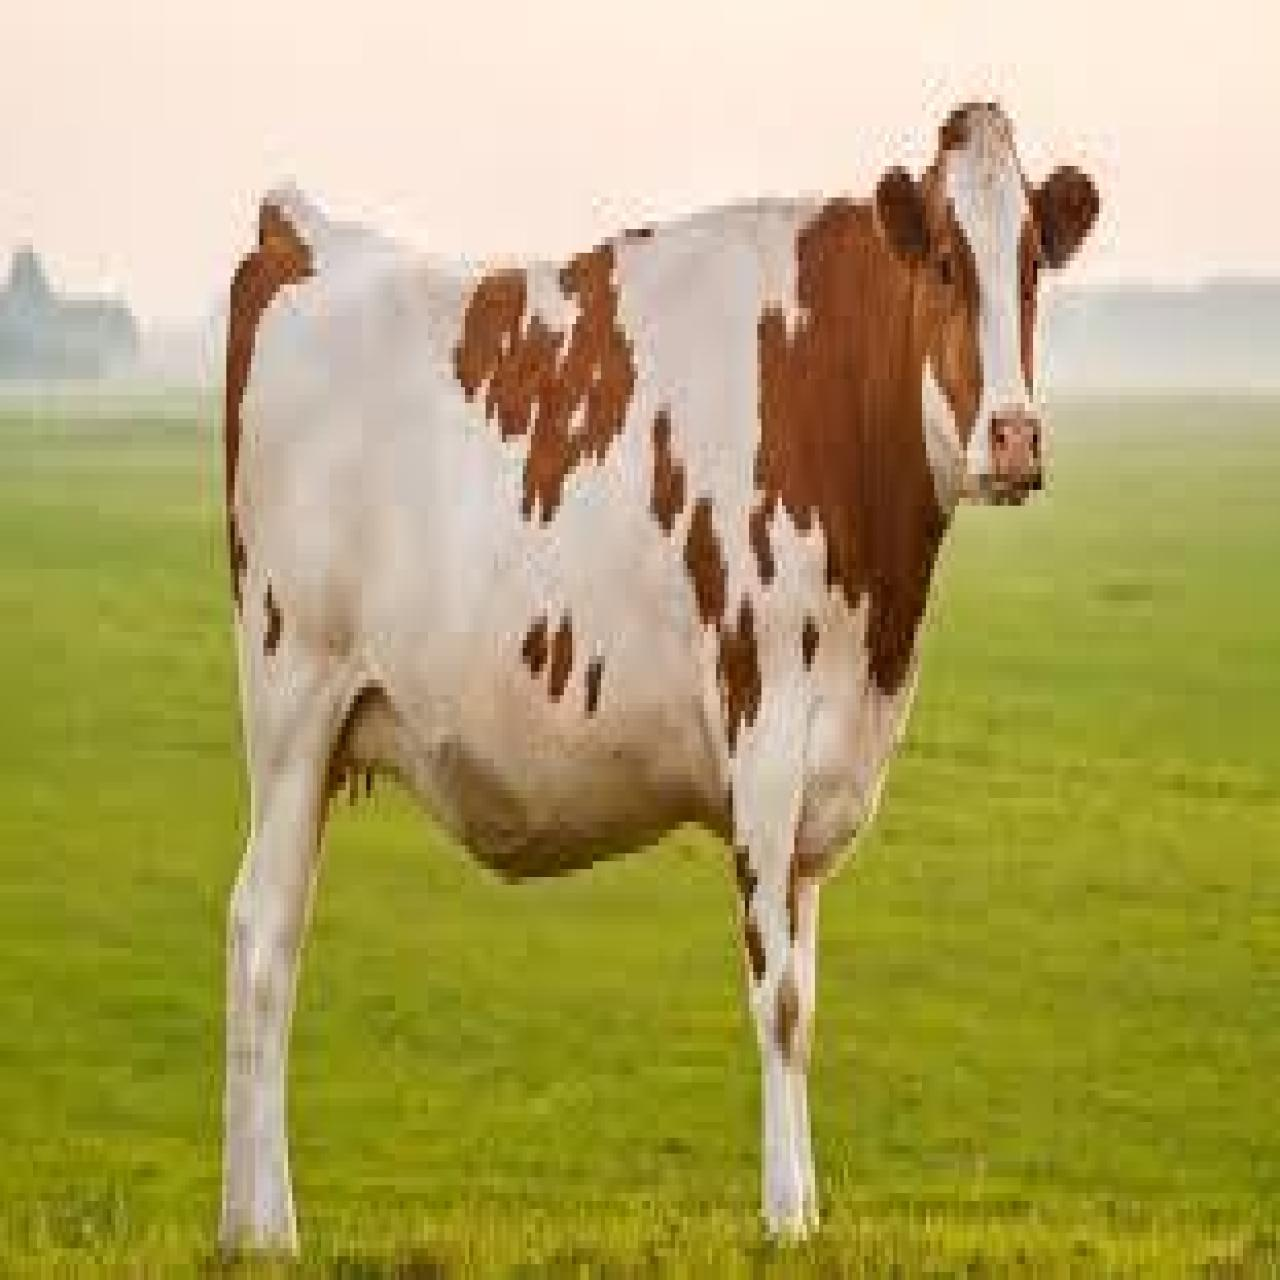cow: (220, 115, 1097, 1260)
